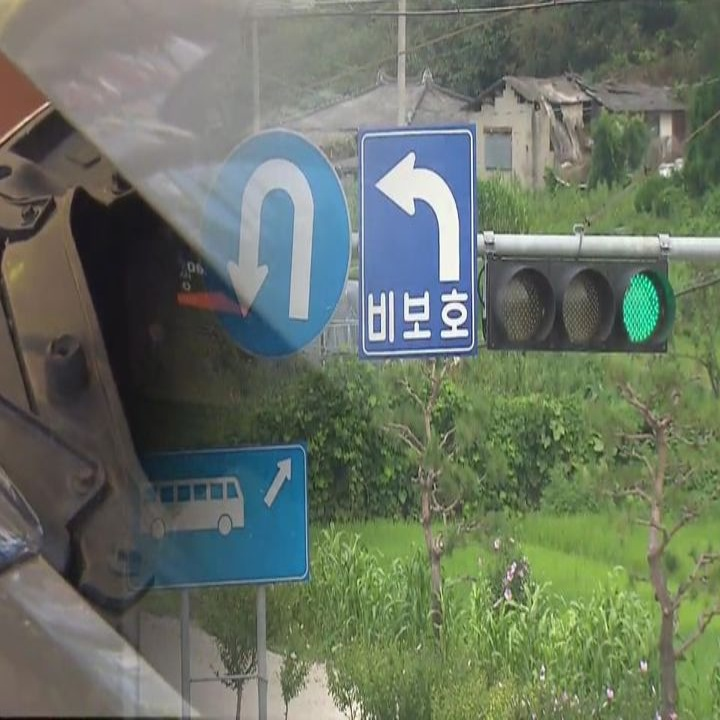left: (365, 142, 469, 290)
